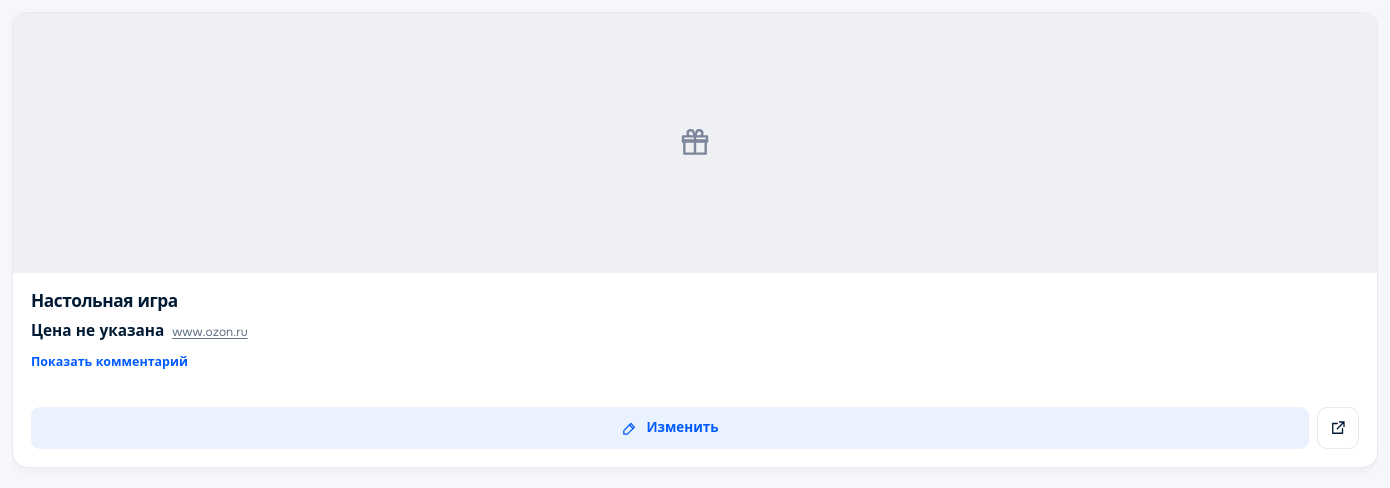
Scenario: WishCard › shows and hides a wish comment
Expected: the text "Лучше русское издание" is not shown
Click the button "Показать комментарий" at (110, 361), box [31,353,188,370]
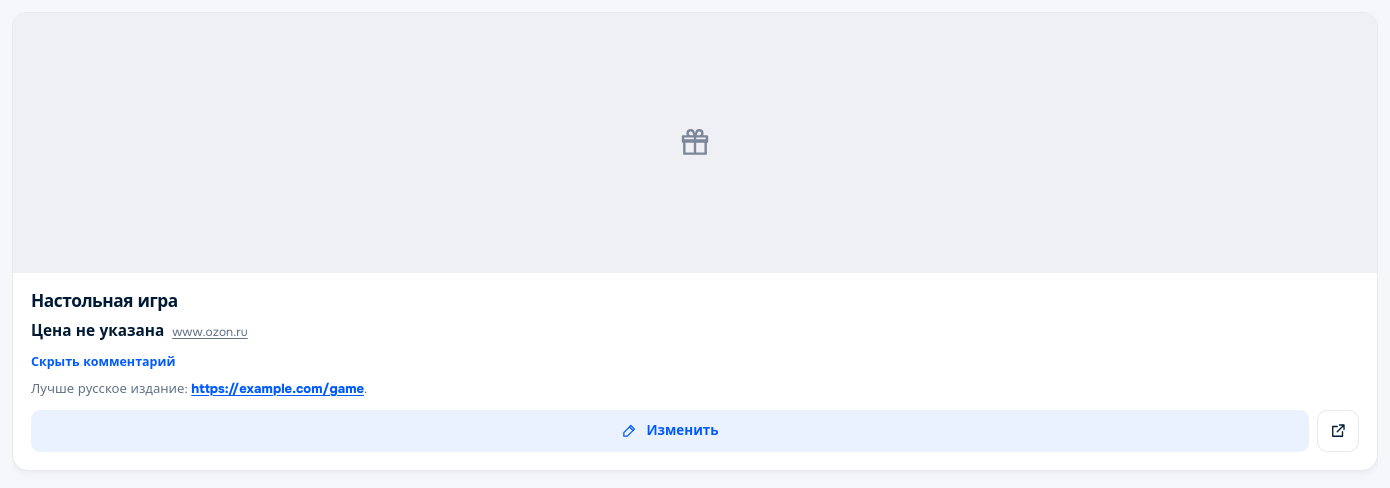
Expected: the text "Лучше русское издание: https://example.com/game ." is shown, [31,380,367,397]
Click the button "Скрыть комментарий" at (103, 361), box [31,353,175,370]
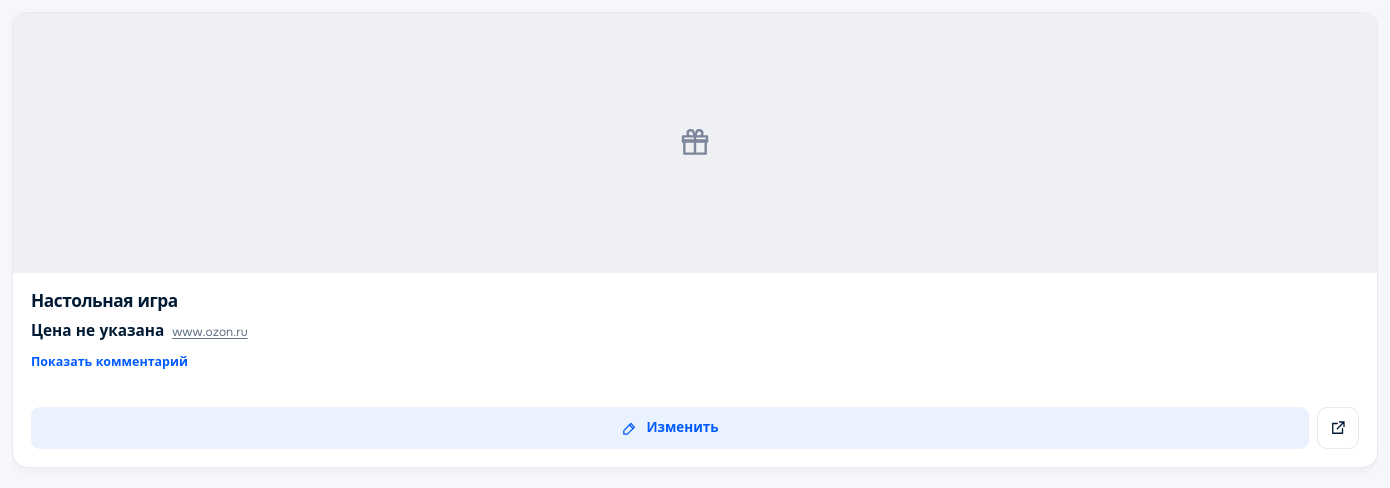
Expected: the text "Лучше русское издание" is gone
